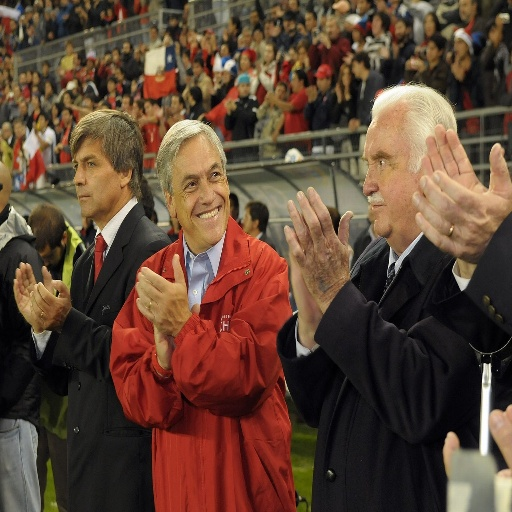hand: (409, 142, 511, 267), (418, 120, 490, 193), (133, 252, 192, 341), (287, 212, 325, 323), (152, 301, 200, 369), (13, 259, 54, 330), (28, 277, 72, 331), (488, 402, 511, 476), (442, 427, 461, 479), (449, 61, 464, 81), (317, 28, 331, 47), (264, 89, 277, 107), (223, 96, 237, 111), (306, 82, 317, 101), (390, 39, 400, 59), (310, 25, 321, 43), (136, 112, 147, 128), (295, 20, 306, 36), (333, 81, 343, 98), (340, 51, 352, 65), (271, 129, 280, 146), (378, 45, 389, 58), (31, 119, 39, 133), (348, 119, 355, 134), (173, 39, 179, 54)
